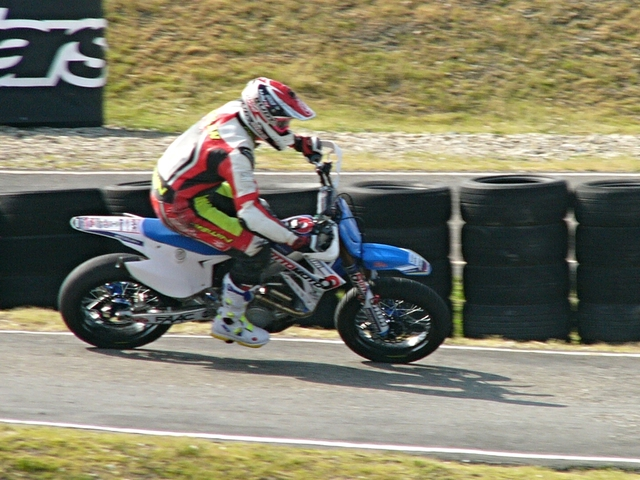helmet: (240, 79, 303, 149)
